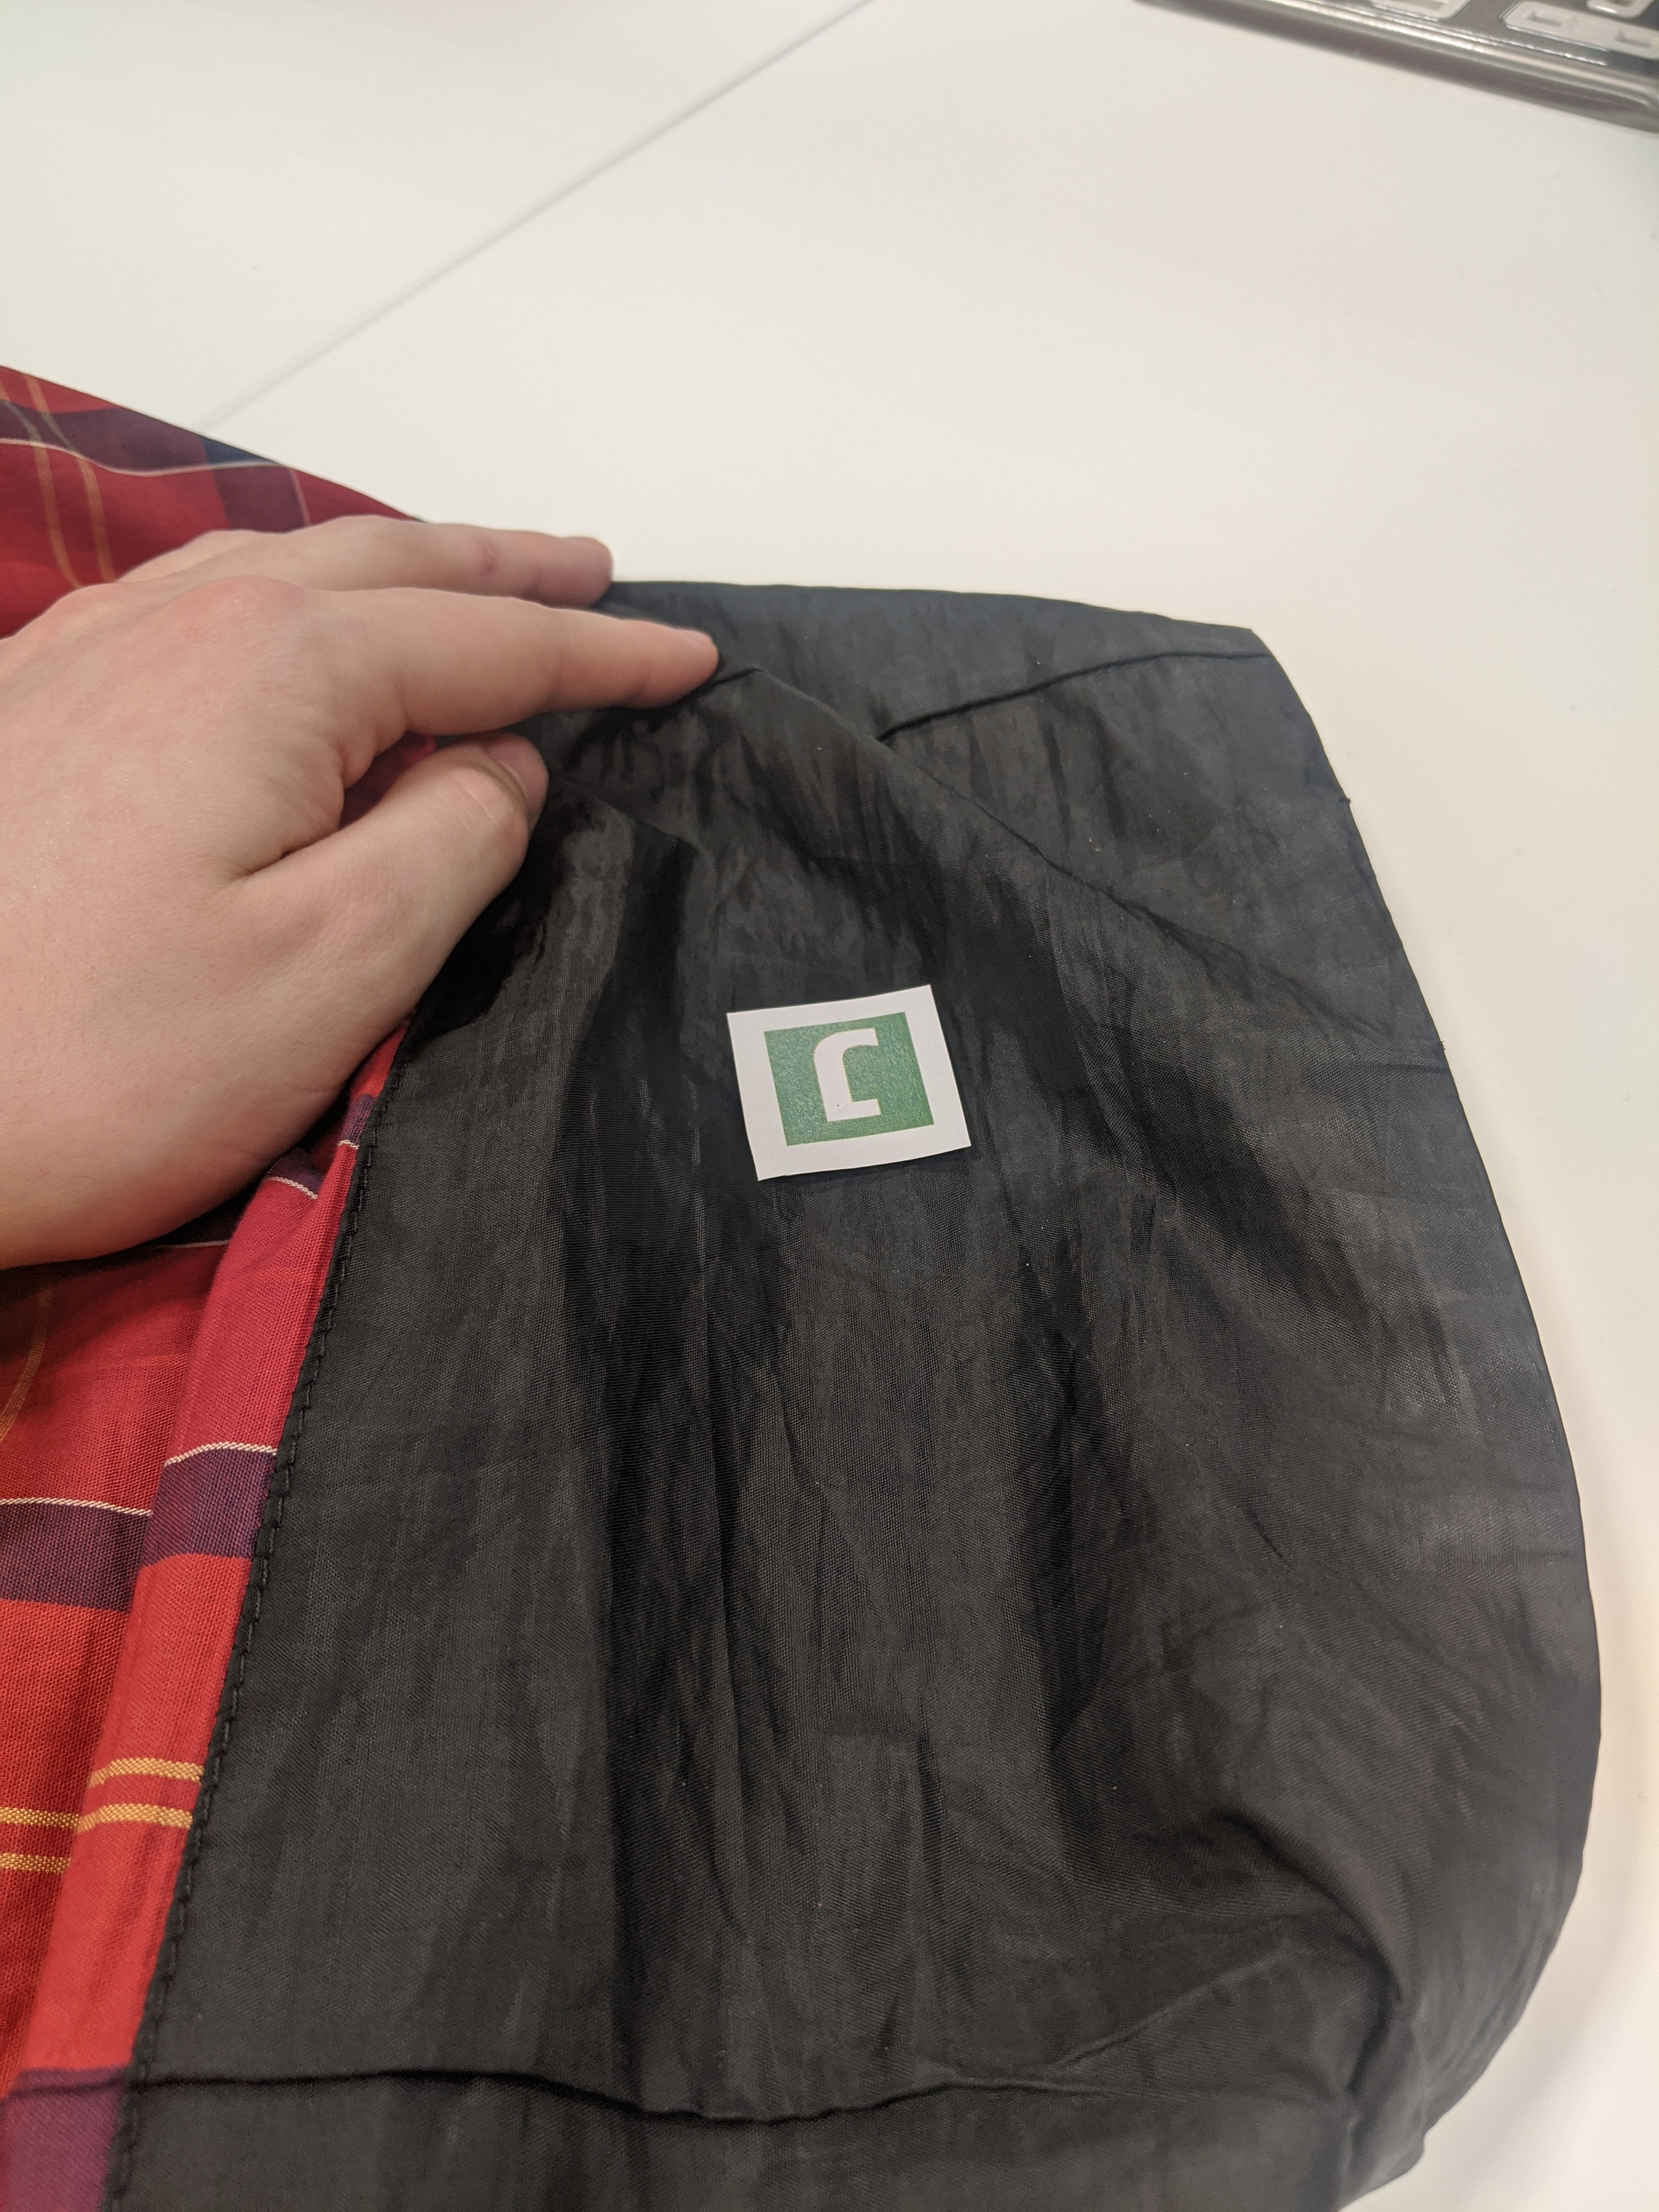green marker: (723, 948, 976, 1202)
